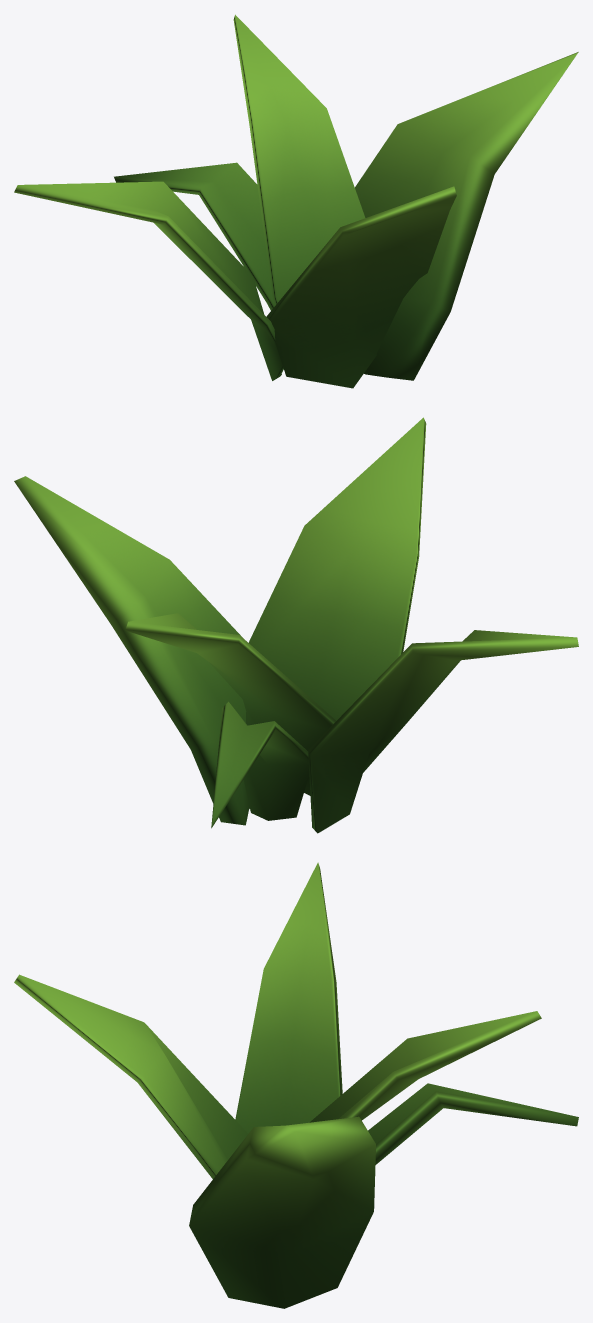
Rendered from grass_2.fbx.
3 views of the same model, one above another, from view 1: azimuth 30°, elevation 25°; view 2: azimuth 150°, elevation 25°; view 3: azimuth 270°, elevation 25° (orthographic). The views are drawn at different scales.
Visible parts, largest first — view 1: pPlane2; view 2: pPlane2; view 3: pPlane2.
Boxes of the visible parts, bbox=[...] form: pPlane2: bbox=[14, 14, 578, 388]; pPlane2: bbox=[14, 417, 578, 833]; pPlane2: bbox=[14, 862, 578, 1308].
Bounding box in the file's own units: 320 × 161 × 275.
